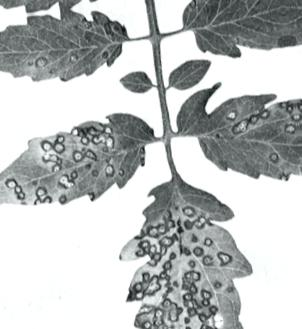Tomato Septoria leaf spot: (108, 171, 258, 329), (0, 108, 168, 213), (173, 76, 302, 206), (0, 2, 132, 98), (176, 0, 289, 68)
